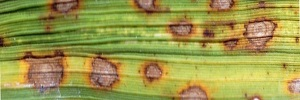RiceBrownSpot: (129, 1, 278, 45), (19, 43, 75, 97), (81, 48, 127, 94), (138, 61, 168, 85)
